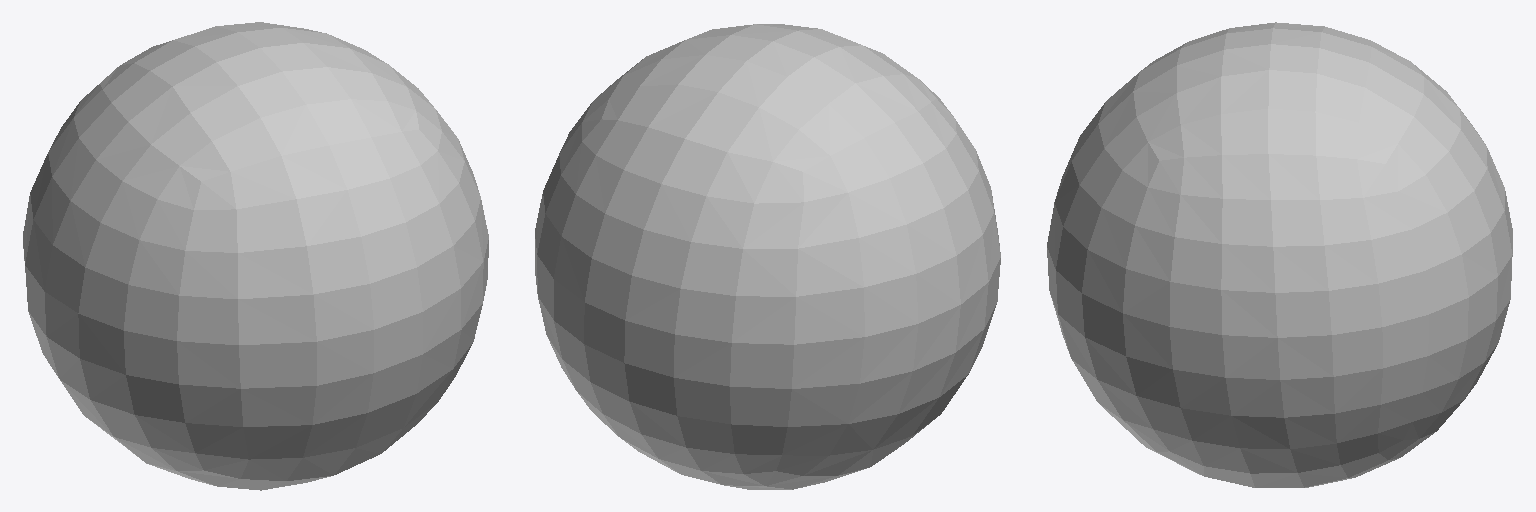
The model's file is Ball_UVed.obj.
The picture shows the model from 3 angles: view 1: azimuth 30°, elevation 25°; view 2: azimuth 150°, elevation 25°; view 3: azimuth 270°, elevation 25°; orthographic projection.
Parts seen in each view (by area): view 1: RetopoGroup1; view 2: RetopoGroup1; view 3: RetopoGroup1.
Part boxes in pixels (x1,y1,x2,y2): RetopoGroup1: (23, 22, 488, 490); RetopoGroup1: (535, 24, 1000, 489); RetopoGroup1: (1047, 22, 1512, 487).
Bounding box in the file's own units: 39.83 × 39.83 × 39.78.